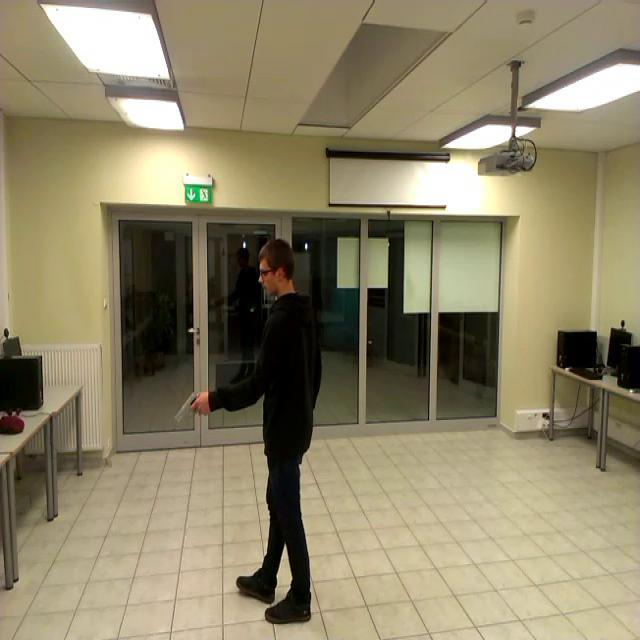Gun: (176, 391, 206, 422)
